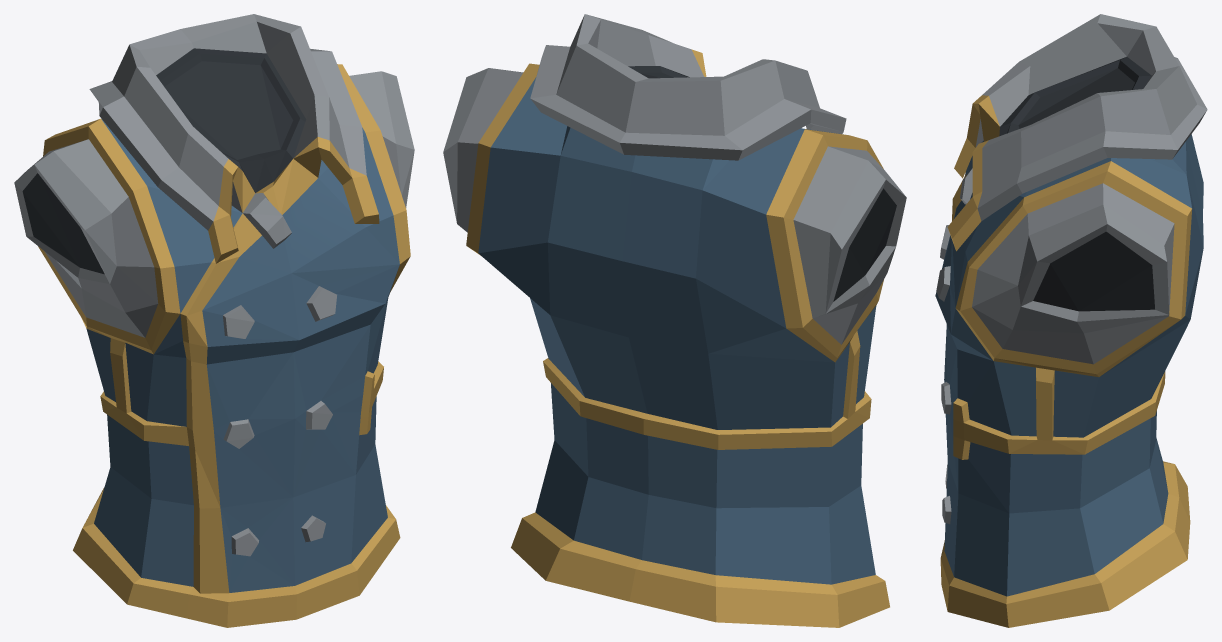
File: Chr_Torso_Male_04_Static.fbx
3 views of the same model, side by side, from view 1: azimuth 30°, elevation 25°; view 2: azimuth 150°, elevation 25°; view 3: azimuth 270°, elevation 25° (orthographic). The views are drawn at different scales.
Visible parts, largest first — view 1: Chr_Torso_Male_04_Static; view 2: Chr_Torso_Male_04_Static; view 3: Chr_Torso_Male_04_Static.
Boxes of the visible parts, x1,y1,x2,y2 form: Chr_Torso_Male_04_Static: (14, 14, 414, 627); Chr_Torso_Male_04_Static: (443, 14, 906, 627); Chr_Torso_Male_04_Static: (935, 14, 1207, 627).
Size of the model in its own units: 0.502 by 0.6834 by 0.3185.
